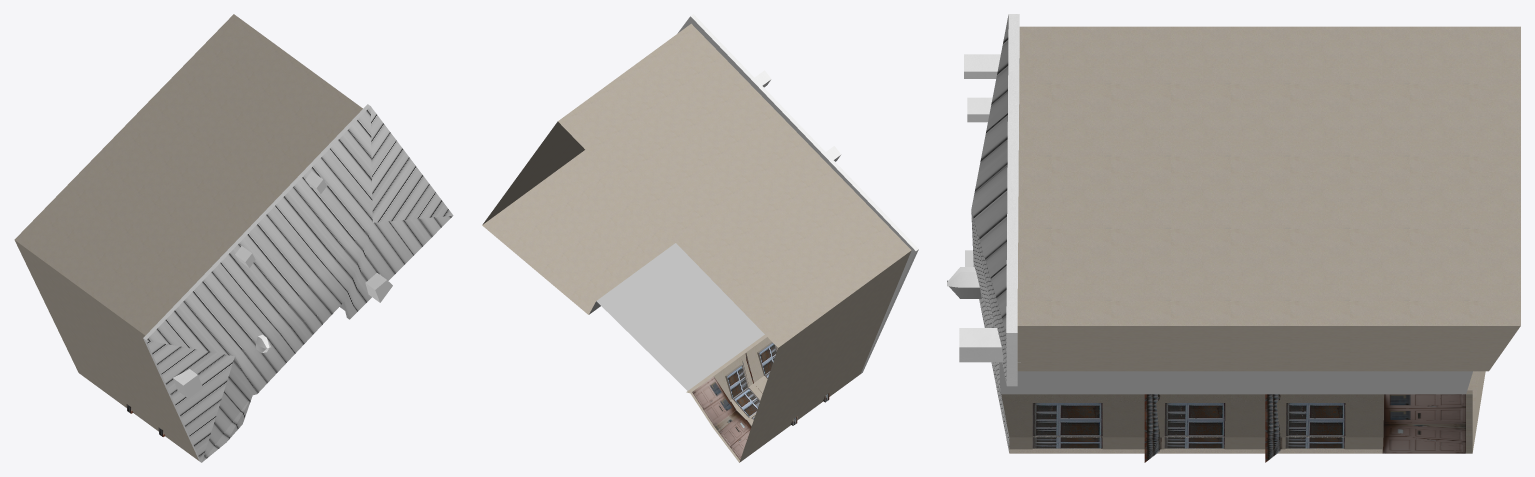
Rendered from Suur-Karja_21-origo.obj.
3 views of the same model, side by side, from view 1: azimuth 30°, elevation 25°; view 2: azimuth 150°, elevation 25°; view 3: azimuth 270°, elevation 25° (orthographic). The views are drawn at different scales.
Visible parts, largest first — view 1: Suur_Karja_21; view 2: Suur_Karja_21, xxx; view 3: Suur_Karja_21, xxx.
Boxes of the visible parts, x1=… form: Suur_Karja_21: x1=14, y1=14, x2=453, y2=462; Suur_Karja_21: x1=482, y1=14, x2=918, y2=462; xxx: x1=589, y1=243, x2=764, y2=390; Suur_Karja_21: x1=947, y1=14, x2=1520, y2=462; xxx: x1=999, y1=362, x2=1472, y2=394.
Bounding box in the file's own units: 22.38 × 22 × 19.23.
